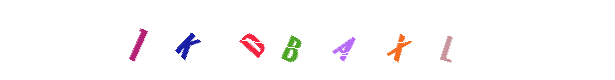1: (98, 0, 178, 80)
A: (274, 0, 354, 80)
B: (268, 0, 348, 80)
D: (251, 0, 331, 80)
K: (146, 0, 226, 80)
L: (328, 0, 408, 80)
X: (285, 0, 365, 80)
